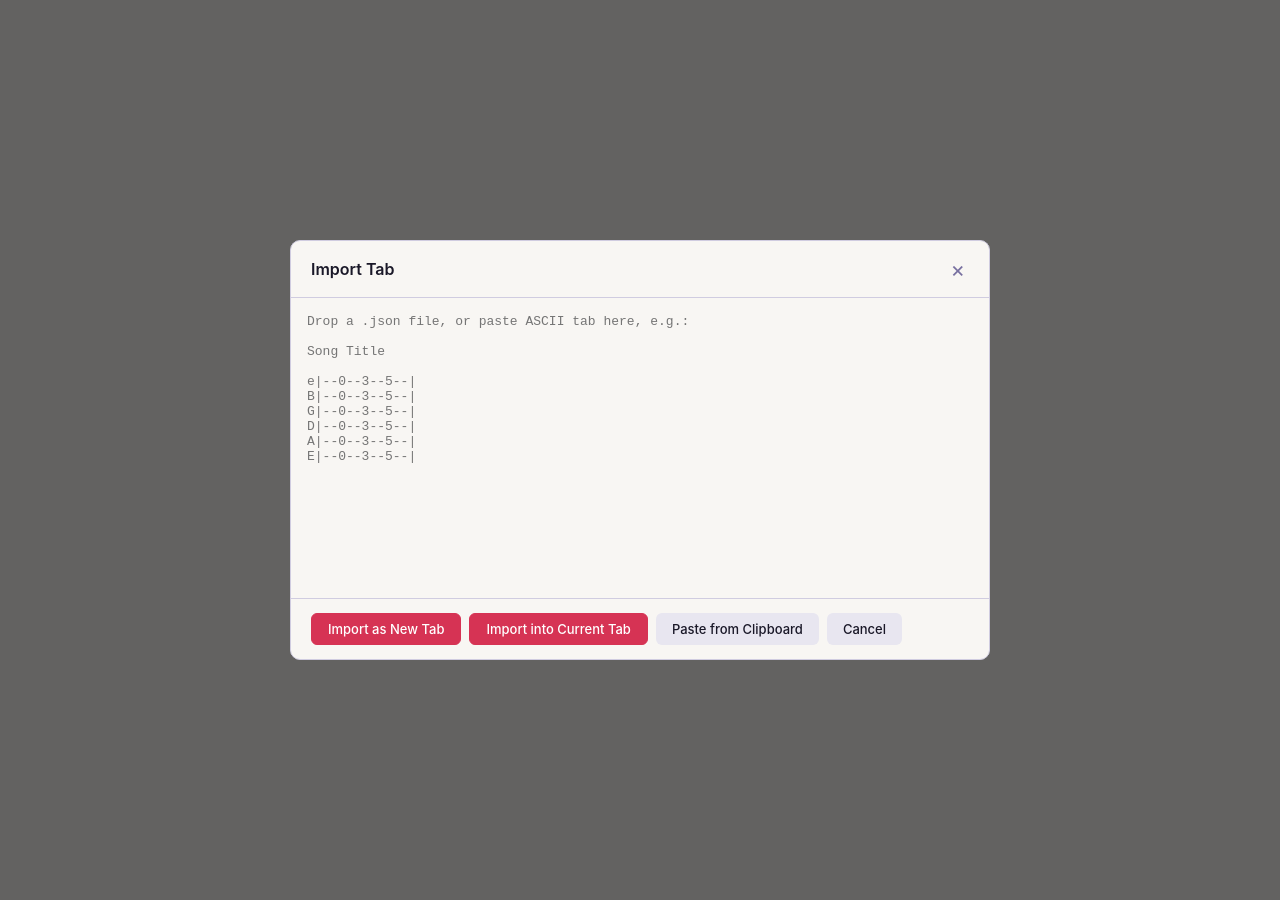
Test case: ImportModal — rendering › shows error for invalid input
Replace the text in the text box with "not a tab" at (640,448), box [291, 298, 989, 598]
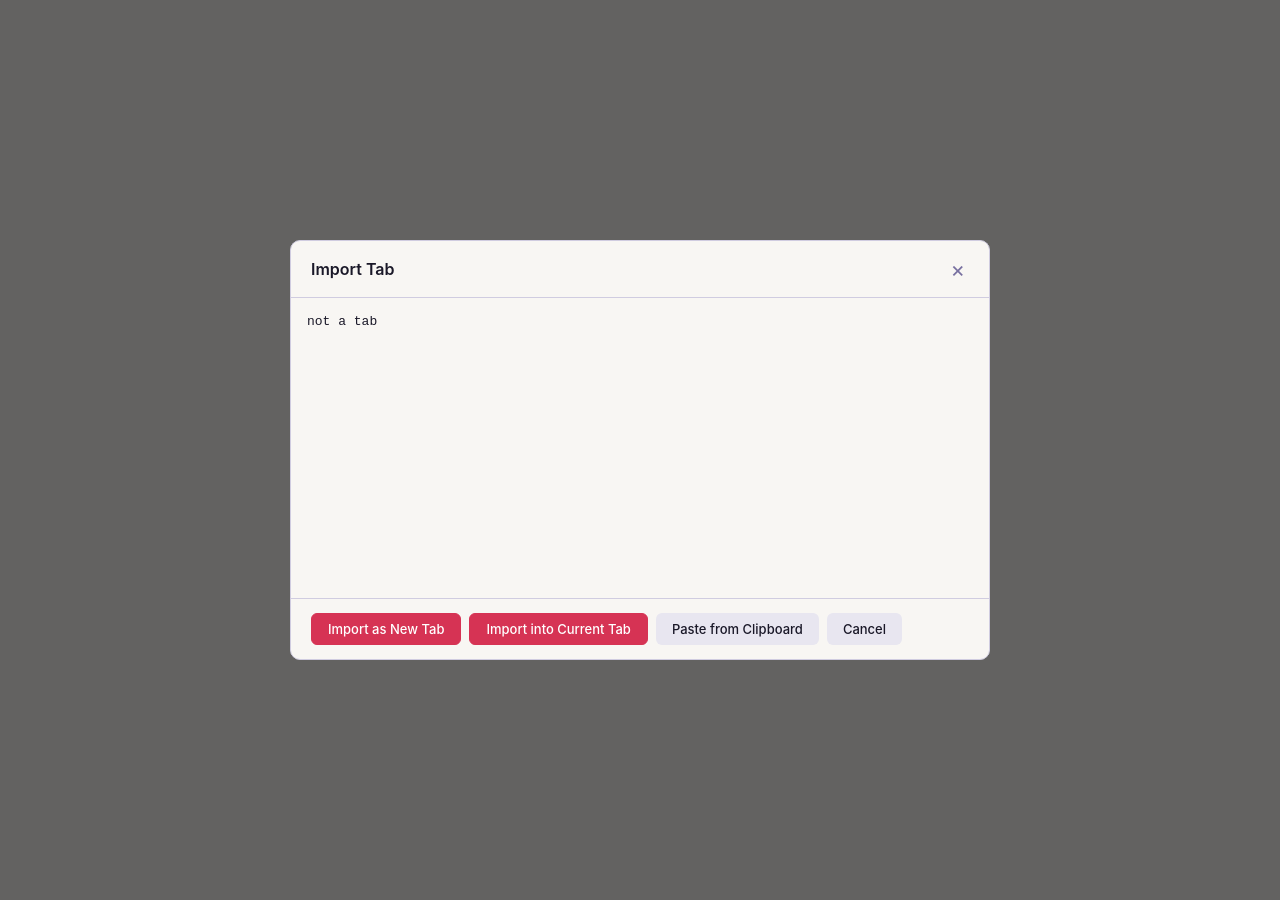
Click the button "Import as New Tab".
click(386, 629)  # box [311, 613, 461, 645]
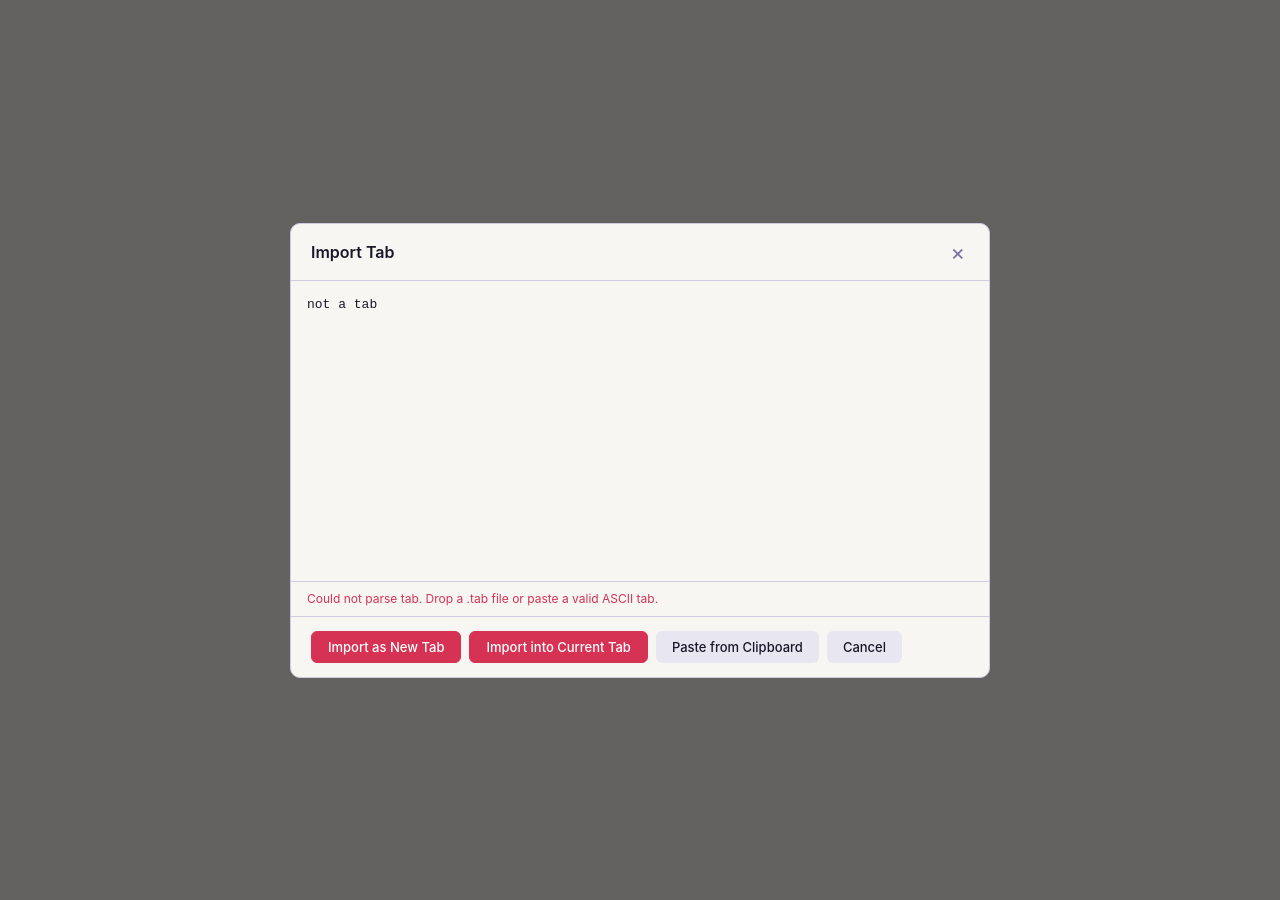
Now the text "Could not parse" is shown, box [307, 590, 658, 606]
